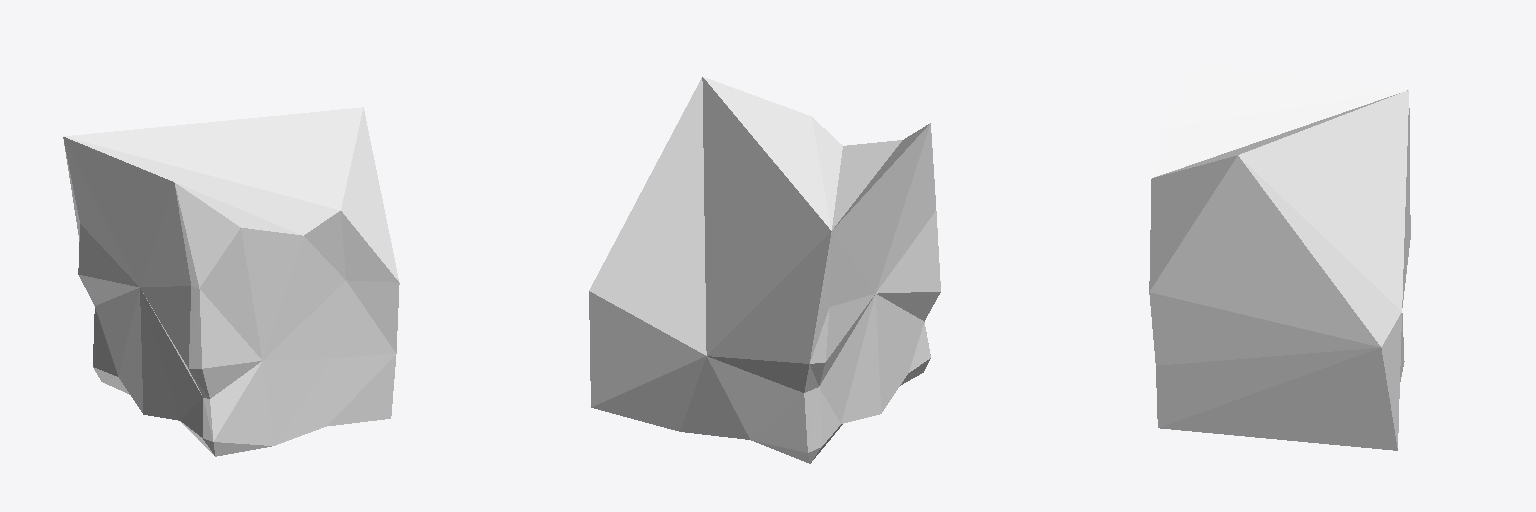
The model's file is piece1.obj.
The picture shows the model from 3 angles: view 1: azimuth 30°, elevation 25°; view 2: azimuth 150°, elevation 25°; view 3: azimuth 270°, elevation 25°; orthographic projection.
Parts seen in each view (by area): view 1: mesh0053; view 2: mesh0053; view 3: mesh0053.
Boxes of the visible parts, x1,y1,x2,y2 form: mesh0053: [63, 107, 399, 456]; mesh0053: [589, 76, 940, 463]; mesh0053: [1149, 63, 1410, 450].
Bounding box in the file's own units: 0.8364 × 0.891 × 0.738.